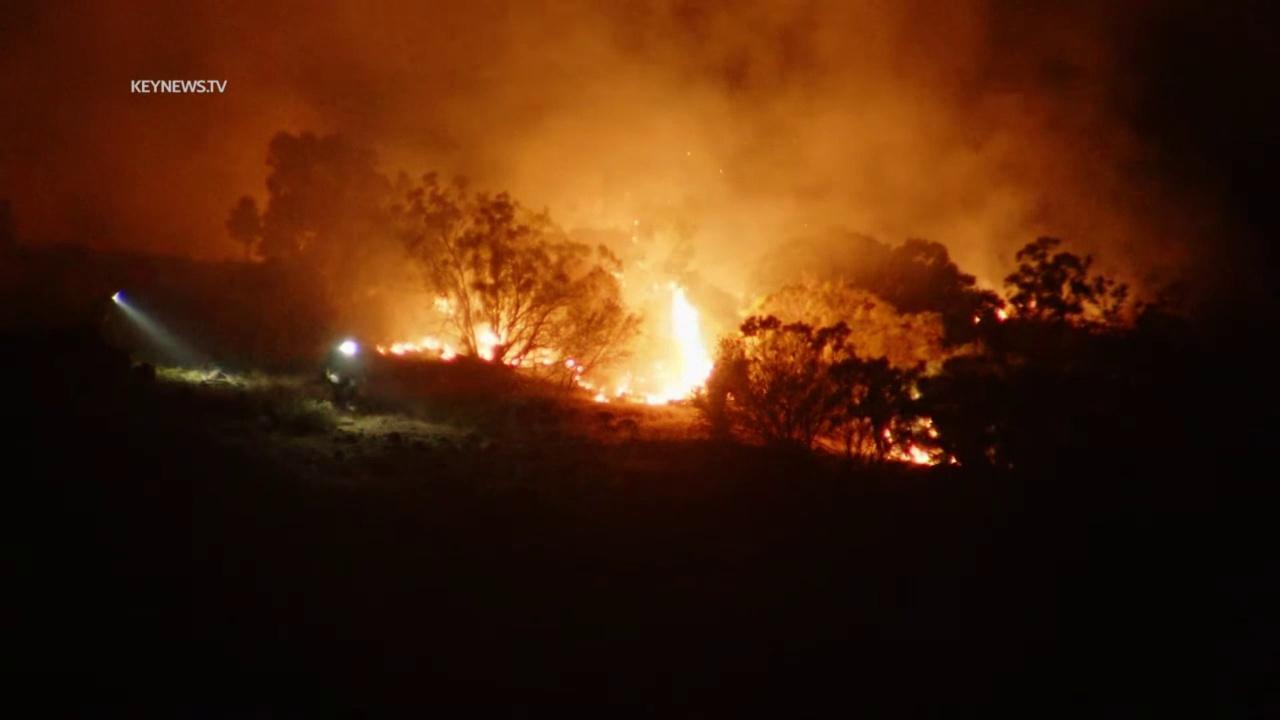fire: (612, 279, 716, 403), (373, 334, 456, 363), (473, 319, 509, 362), (896, 439, 945, 469), (916, 416, 940, 439), (431, 296, 454, 316), (563, 358, 584, 375), (538, 347, 554, 366), (594, 384, 609, 403), (993, 306, 1009, 322), (882, 427, 895, 445), (508, 354, 524, 368), (948, 453, 960, 467), (971, 313, 981, 325), (1028, 298, 1038, 310)
smoke: (0, 0, 1228, 411)
